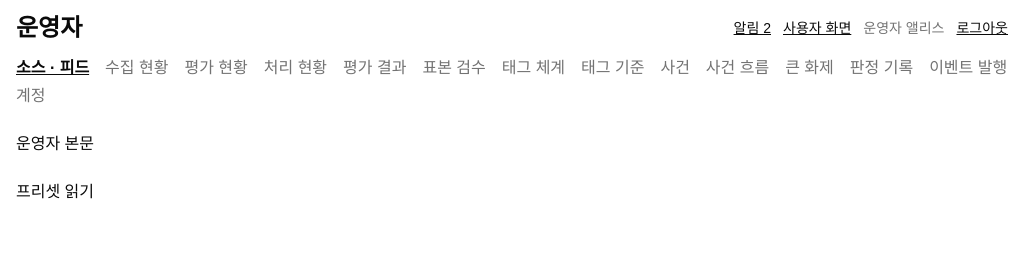
Test: AdminLayout › 로그아웃이 거부되면 운영자 화면에 남아 알린다
Click the button "로그아웃".
click(982, 28)  # box [956, 18, 1008, 38]
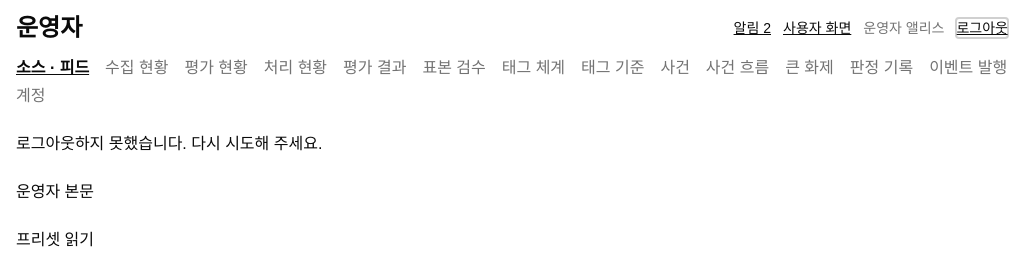
expect the text "운영자 본문" is shown: met, box [16, 183, 94, 200]
expect the message reads "로그아웃하지 못했습니다. 다시 시도해 주세요.": met, box [16, 135, 322, 152]
